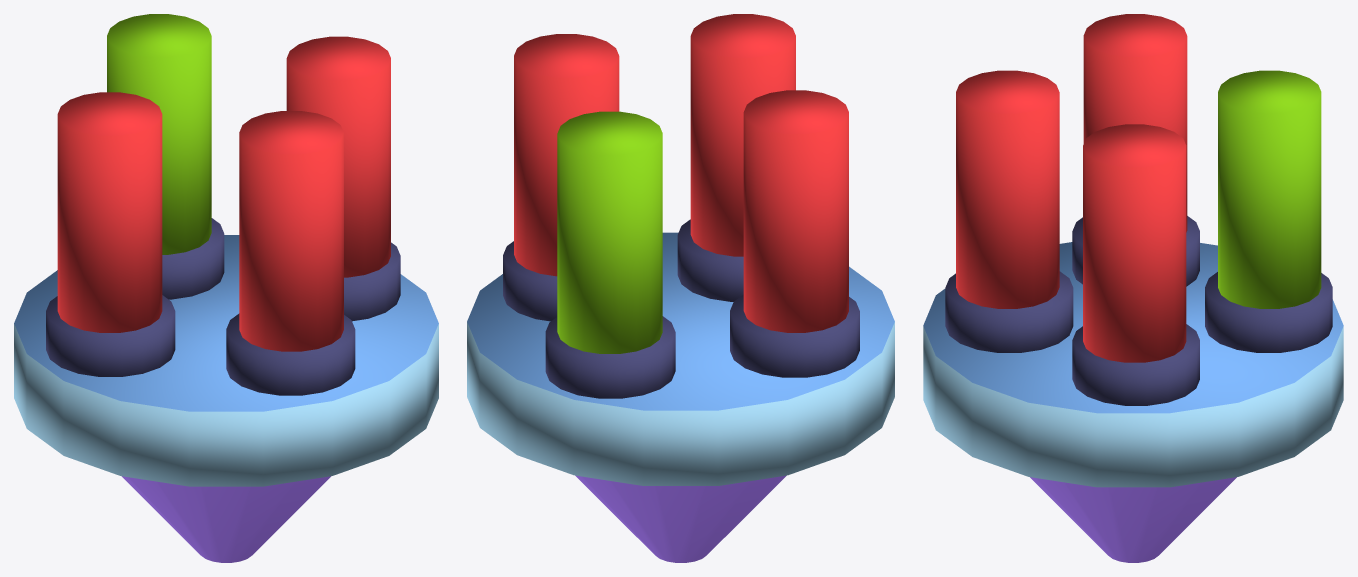
File: tool.fbx
The picture shows the model from 3 angles, left to right: view 1: azimuth 30°, elevation 25°; view 2: azimuth 150°, elevation 25°; view 3: azimuth 270°, elevation 25°; orthographic projection.
Parts seen in each view (by area): view 1: Cassette.003, Tube 1.001, Tube 1, Tube 2, Tube 1.002; view 2: Cassette.003, Tube 1.001, Tube 2, Tube 1, Tube 1.002; view 3: Cassette.003, Tube 1.002, Tube 1, Tube 2, Tube 1.001.
Part boxes in pixels (left/top/right/bottom): Cassette.003: left=14, top=218, right=438, bottom=562; Tube 1.001: left=57, top=92, right=162, bottom=332; Tube 1: left=239, top=111, right=343, bottom=351; Tube 2: left=107, top=14, right=211, bottom=254; Tube 1.002: left=286, top=36, right=390, bottom=277; Cassette.003: left=467, top=219, right=894, bottom=562; Tube 1.001: left=743, top=90, right=848, bottom=332; Tube 2: left=557, top=111, right=662, bottom=353; Tube 1: left=690, top=14, right=795, bottom=256; Tube 1.002: left=514, top=34, right=619, bottom=276; Cassette.003: left=923, top=216, right=1343, bottom=562; Tube 1.002: left=1083, top=124, right=1186, bottom=362; Tube 1: left=956, top=70, right=1059, bottom=308; Tube 2: left=1218, top=70, right=1321, bottom=308; Tube 1.001: left=1083, top=14, right=1187, bottom=232.
Size of the model in its own units: 1.68 by 2.07 by 1.71.
